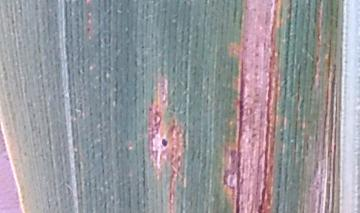tarspot: (159, 137, 170, 148), (86, 26, 90, 34)
